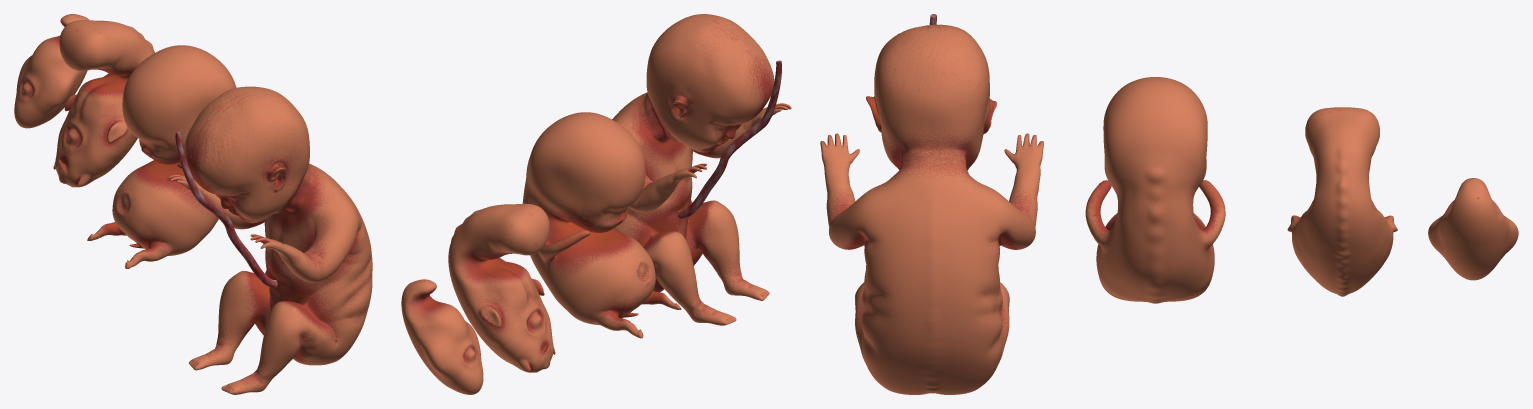
Rendered from bola.glb.
The picture shows the model from 3 angles, left to right: view 1: azimuth 30°, elevation 25°; view 2: azimuth 150°, elevation 25°; view 3: azimuth 270°, elevation 25°; orthographic projection. The views are drawn at different scales.
Parts seen in each view (by area): view 1: katta bola, uchinchi bola, ikkinchi bola, birinchi bola, BezierCurve; view 2: katta bola, uchinchi bola, ikkinchi bola, birinchi bola, BezierCurve; view 3: katta bola, uchinchi bola, ikkinchi bola, birinchi bola.
Boxes of the visible parts, x1,y1,x2,y2 form: katta bola: [167, 86, 372, 394]; uchinchi bola: [87, 45, 236, 268]; ikkinchi bola: [53, 20, 155, 187]; birinchi bola: [14, 14, 89, 128]; BezierCurve: [175, 131, 277, 287]; katta bola: [612, 14, 791, 325]; uchinchi bola: [522, 112, 681, 338]; ikkinchi bola: [448, 203, 555, 372]; birinchi bola: [401, 279, 483, 394]; BezierCurve: [678, 60, 781, 218]; katta bola: [820, 24, 1043, 394]; uchinchi bola: [1085, 77, 1225, 303]; ikkinchi bola: [1287, 107, 1397, 296]; birinchi bola: [1428, 178, 1518, 280].
Size of the model in its own units: 7.2 by 10.5 by 19.89.
Materials: 5 (5 with a texture image).
